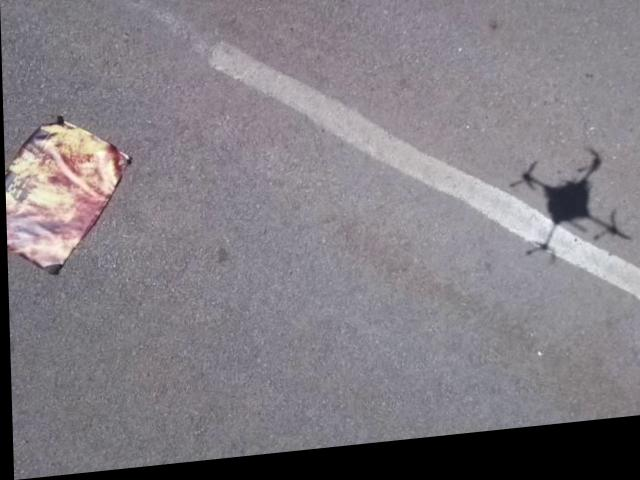fire-poster: (3, 109, 135, 281)
